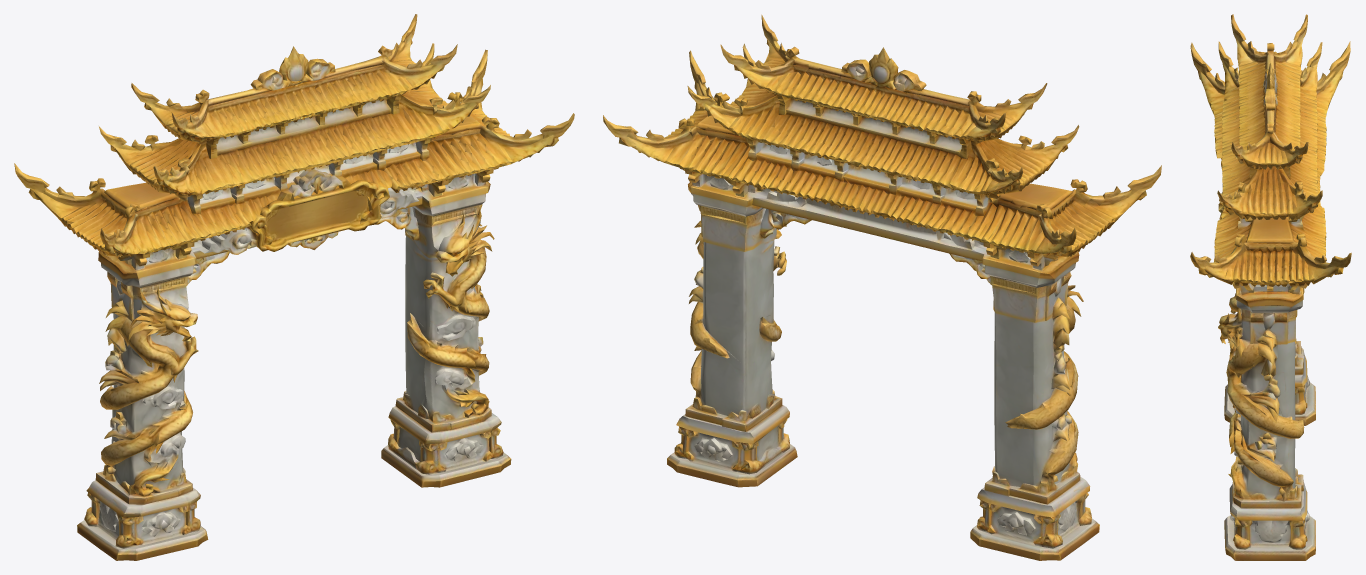
File: skygate.glb
The picture shows the model from 3 angles, left to right: view 1: azimuth 30°, elevation 25°; view 2: azimuth 150°, elevation 25°; view 3: azimuth 270°, elevation 25°; orthographic projection. The views are drawn at different scales.
Visible parts, largest first — view 1: model; view 2: model; view 3: model.
Part boxes in pixels (x1,y1,x2,y2): model: [14, 14, 574, 560]; model: [603, 14, 1161, 560]; model: [1190, 14, 1351, 560].
Bounding box in the file's own units: 1.89 × 1.73 × 0.6172.
Materials: 1 (1 with a texture image).
